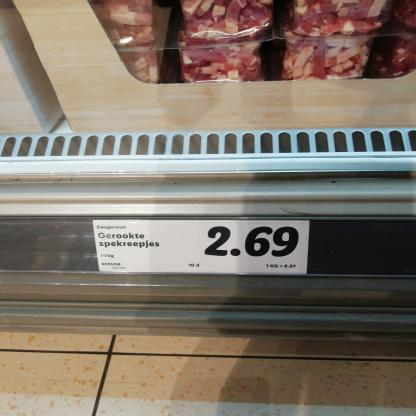prtg: (93, 221, 311, 275)
